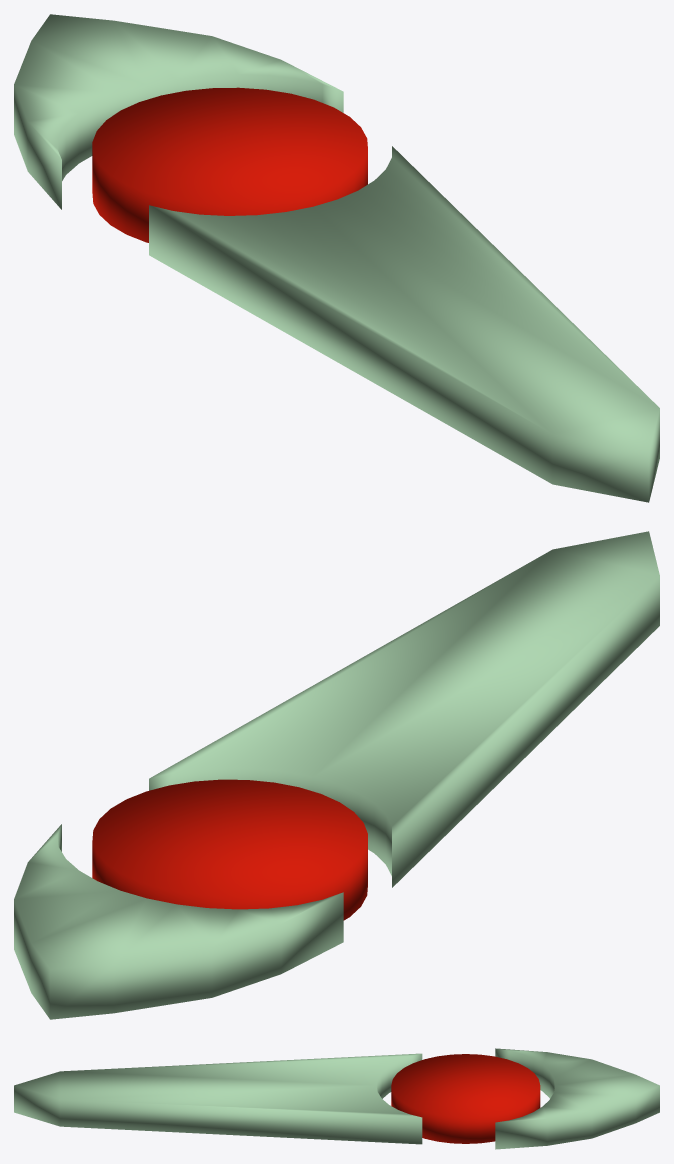
File: bouy.fbx
The picture shows the model from 3 angles, top to bottom: view 1: azimuth 30°, elevation 25°; view 2: azimuth 150°, elevation 25°; view 3: azimuth 270°, elevation 25°; orthographic projection. The views are drawn at different scales.
Parts seen in each view (by area): view 1: buoy; view 2: buoy; view 3: buoy.
Boxes of the visible parts, x1,y1,x2,y2 form: buoy: (14, 14, 659, 502); buoy: (14, 531, 659, 1019); buoy: (14, 1048, 659, 1149).
Bounding box in the file's own units: 0.7062 × 0.12 × 2.6.
